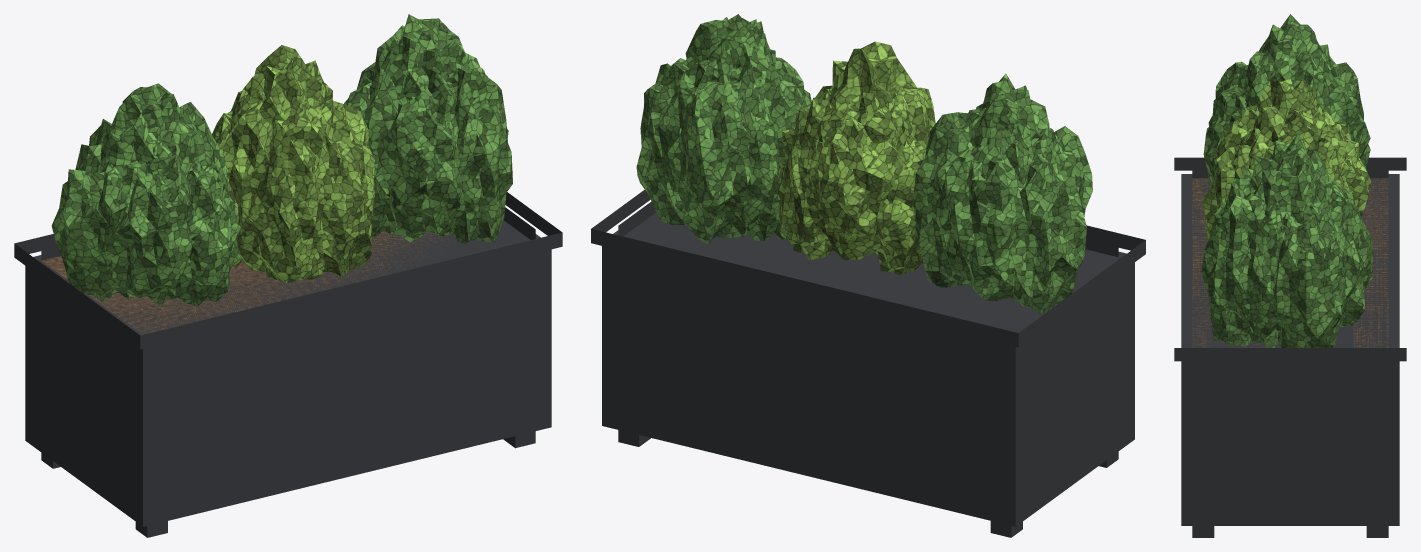
The picture shows the model from 3 angles, left to right: view 1: azimuth 30°, elevation 25°; view 2: azimuth 150°, elevation 25°; view 3: azimuth 270°, elevation 25°; orthographic projection. The views are drawn at different scales.
Parts seen in each view (by area): view 1: baseOffset=0;depth=0.6;height=0.6;material=steel_dark;power= (×4); view 2: baseOffset=0;depth=0.6;height=0.6;material=steel_dark;power= (×3); view 3: baseOffset=0;depth=0.6;height=0.6;material=steel_dark;power= (×4).
Boxes of the visible parts, box(x1,y1,x2,y2) form: baseOffset=0;depth=0.6;height=0.6;material=steel_dark;power= (×4): box(14, 14, 562, 537); baseOffset=0;depth=0.6;height=0.6;material=steel_dark;power= (×3): box(591, 14, 1145, 537); baseOffset=0;depth=0.6;height=0.6;material=steel_dark;power= (×4): box(1174, 14, 1406, 537).
Size of the model in its own units: 1.28 by 0.64 by 1.13.
Materials: 4 (3 with a texture image).
